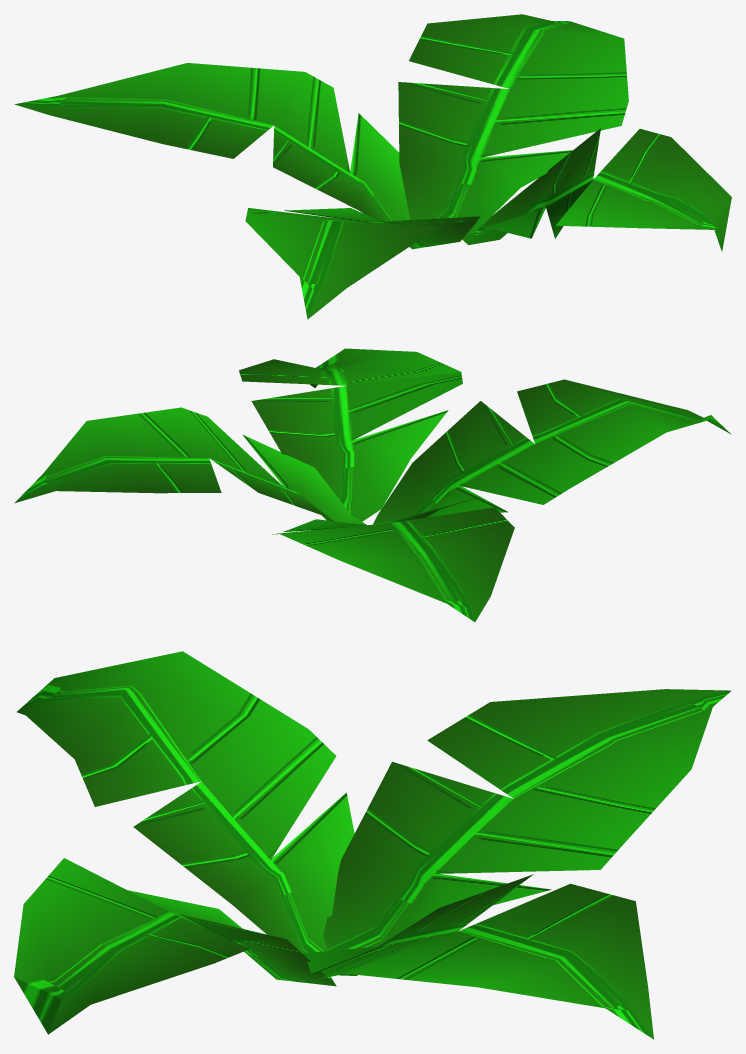
Rendered from plant3.fbx.
3 views of the same model, one above another, from view 1: azimuth 30°, elevation 25°; view 2: azimuth 150°, elevation 25°; view 3: azimuth 270°, elevation 25° (orthographic). The views are drawn at different scales.
Visible parts, largest first — view 1: Default_Layer; view 2: Default_Layer; view 3: Default_Layer.
Boxes of the visible parts, <box> form: Default_Layer: <box>14,14,731,319</box>; Default_Layer: <box>14,348,731,621</box>; Default_Layer: <box>14,651,731,1039</box>.
Bounding box in the file's own units: 172 × 40 × 164.
